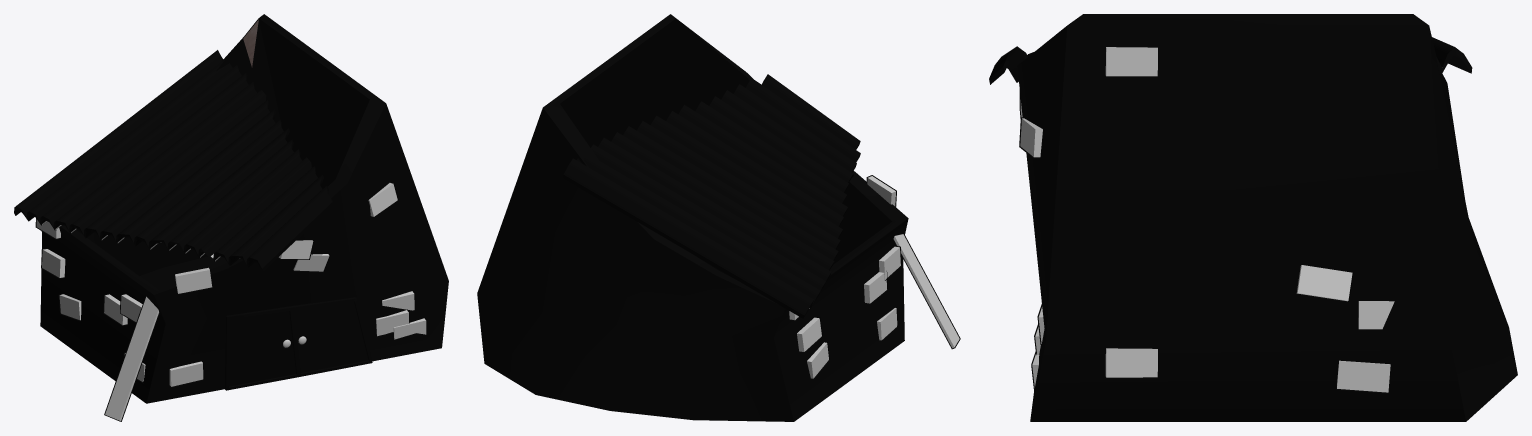
Rendered from Building6.fbx.
3 renders of one model, left to right at view 1: azimuth 30°, elevation 25°; view 2: azimuth 150°, elevation 25°; view 3: azimuth 270°, elevation 25°, orthographic. The views are drawn at different scales.
Parts seen in each view (by area): view 1: Building6; view 2: Building6; view 3: Building6.
Boxes of the visible parts, box(x1,y1,x2,y2) form: Building6: box(14, 14, 448, 421); Building6: box(477, 14, 960, 421); Building6: box(989, 14, 1517, 421).
Bounding box in the file's own units: 195 × 138 × 177.
